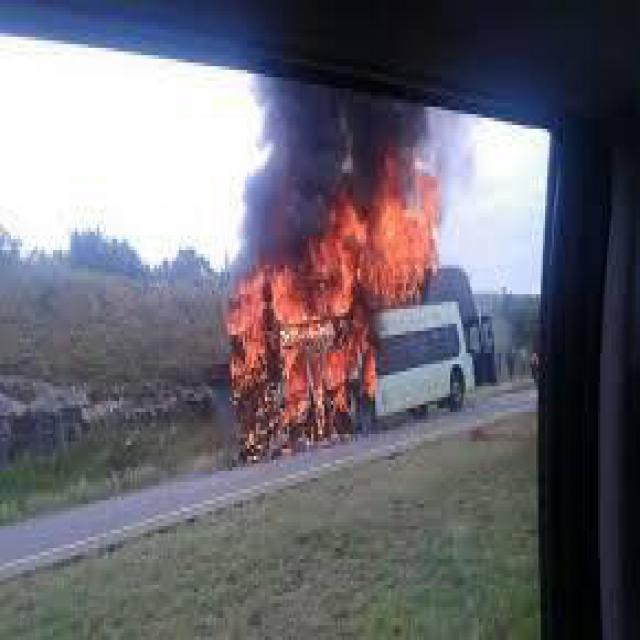fire: (224, 148, 462, 454)
